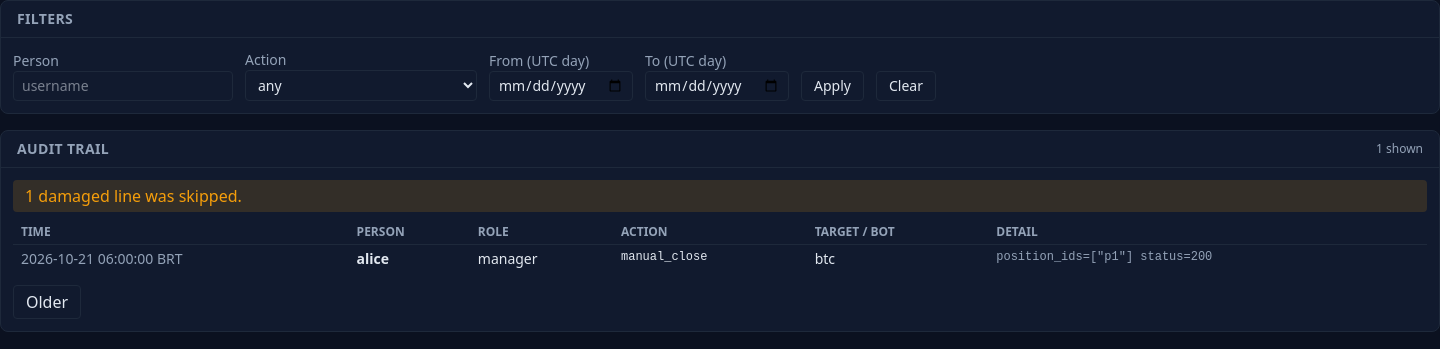
Audit page › damaged lines are counted, Older loads the next page with the cursor
expect the text "1 damaged line was skipped." is shown: met, box x1=13 y1=180 x2=1427 y2=212
Click the button "Older": (47, 302) x1=13 y1=285 x2=81 y2=319
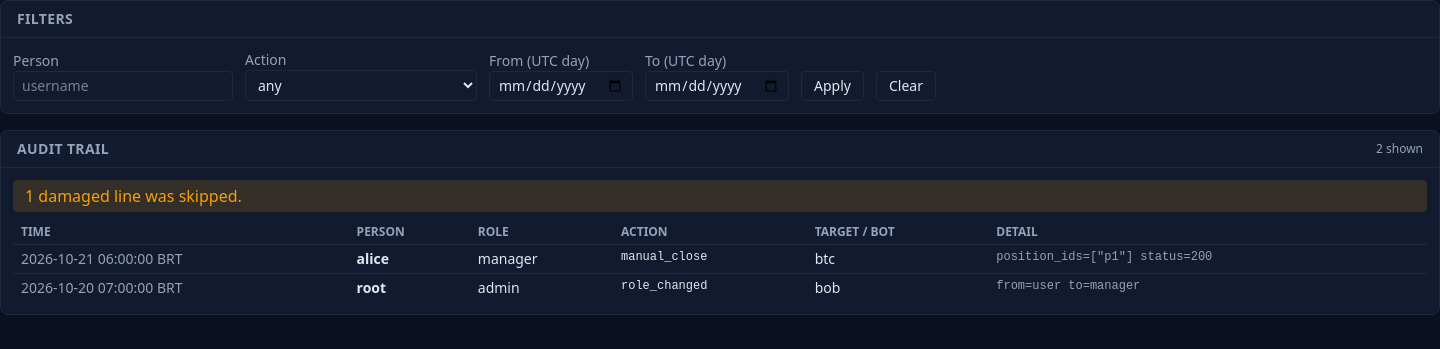
expect the number of rows with test id "audit-row" is 2: met, box x1=13 y1=244 x2=1427 y2=274; x1=13 y1=274 x2=1427 y2=302
expect the button "Older" is gone: met
